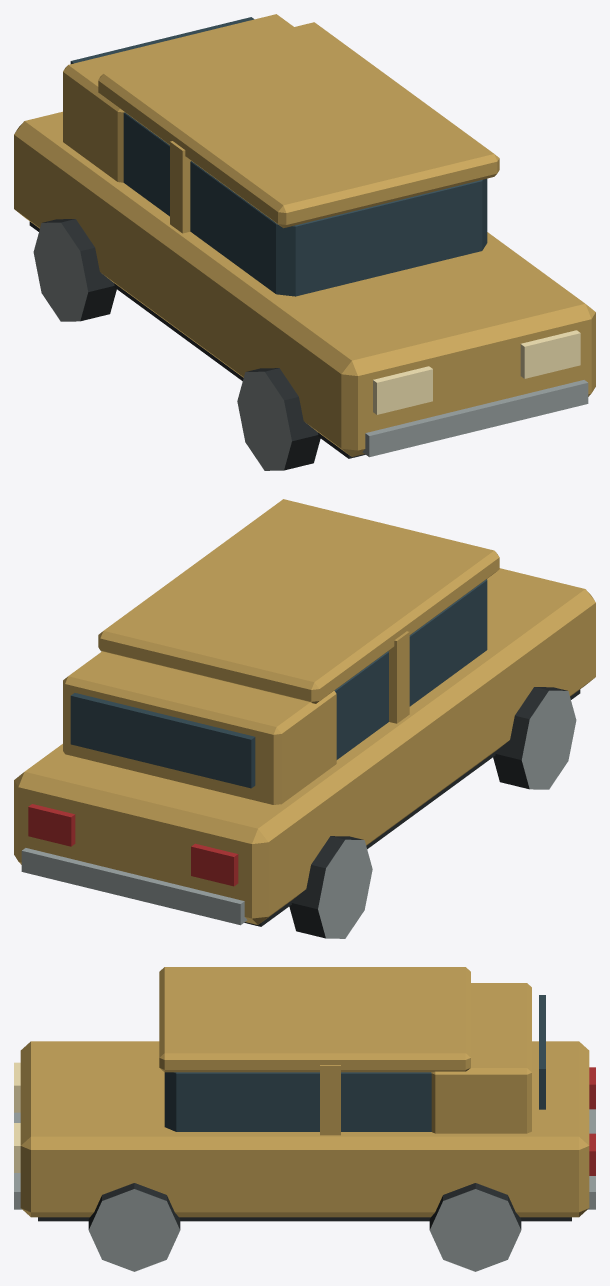
File: VEH_WAGON_OCHRE.glb
3 renders of one model, top to bottom at view 1: azimuth 30°, elevation 25°; view 2: azimuth 150°, elevation 25°; view 3: azimuth 270°, elevation 25°, orthographic. The views are drawn at different scales.
Parts seen in each view (by area): view 1: Body, Wheel_FL, Wheel_RL; view 2: Body, Wheel_RL, Wheel_FL; view 3: Body, Wheel_FR, Wheel_RR.
Part boxes in pixels (x1=…): Body: x1=14, y1=14, x2=595, y2=458; Wheel_FL: x1=237, y1=368, x2=320, y2=470; Wheel_RL: x1=33, y1=219, x2=116, y2=321; Body: x1=14, y1=499, x2=595, y2=926; Wheel_RL: x1=289, y1=836, x2=372, y2=938; Wheel_FL: x1=493, y1=687, x2=576, y2=789; Body: x1=14, y1=967, x2=595, y2=1221; Wheel_FR: x1=88, y1=1183, x2=180, y2=1271; Wheel_RR: x1=429, y1=1183, x2=521, y2=1271.
Size of the model in its own units: 0.324 by 0.265 by 0.686.
